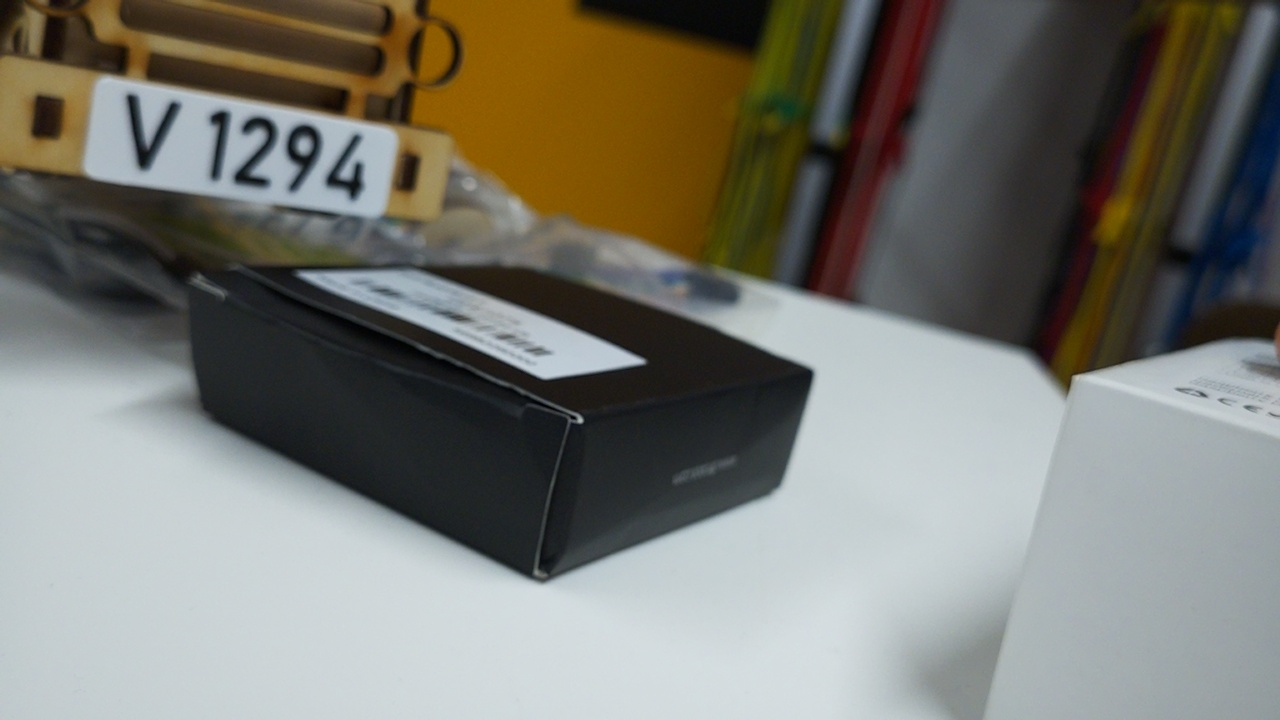license_plate: (79, 74, 401, 222)
